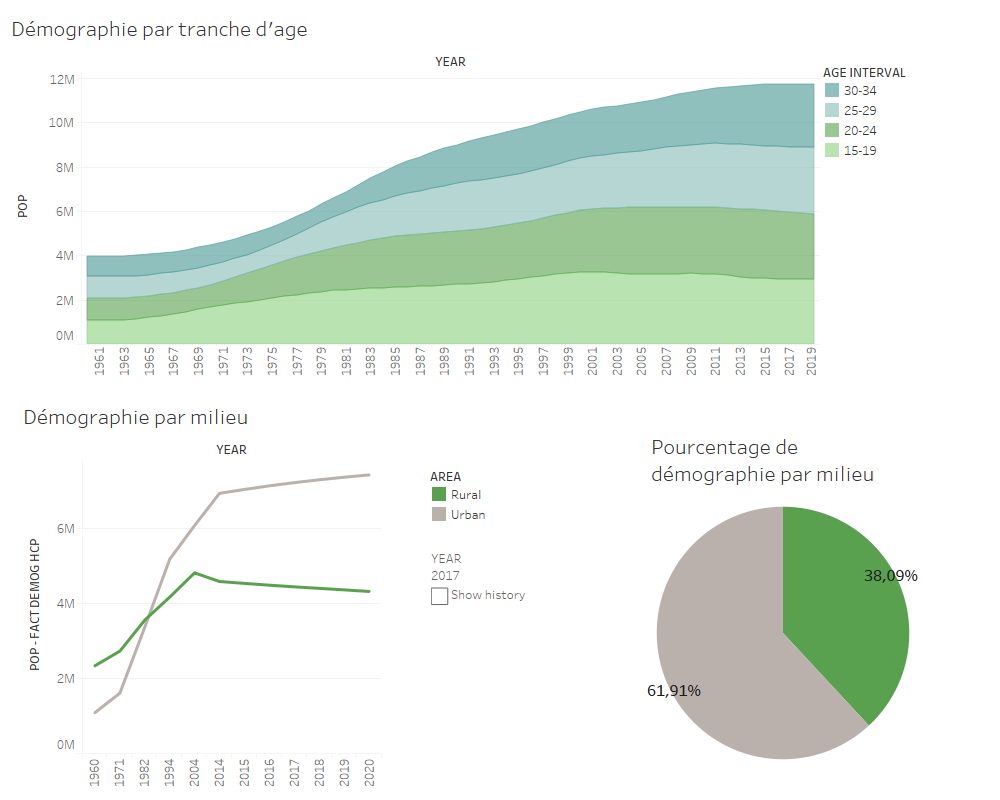

Layout of this report page (visuals, bound fields, positions):
{"tool":"tableau","page":{"name":"DEMOG2","canvas":[1000,800],"ordinal":2},"visuals":[{"type":"worksheet","title":"DEMOG_DWB_2","mark":"Area","rows":["POP"],"cols":["YEAR"],"box":[7,8,813,369]},{"type":"legend","title":"DEMOG_DWB_2","param":"[msolap.1ifi4mp15fzyf614xw0c20uex6ge].[DIM AGE INTERVAL LVL 1].[AGE INTERVAL].[n","box":[822,62,159,133]},{"type":"worksheet","title":"DEMOG_HCP_1","mark":"Line","rows":["POP - FACT DEMOG HCP"],"cols":["YEAR"],"box":[19,396,362,397]},{"type":"worksheet","title":"DEMOG_HCP_2","mark":"Pie","box":[647,426,305,365]},{"type":"legend","title":"DEMOG_HCP_1","param":"[msolap.1ifi4mp15fzyf614xw0c20uex6ge].[DIM AREA].[AREA].[none:AREA:nk]","box":[429,466,140,58]},{"type":"currpage","title":"DEMOG_HCP_2","box":[431,549,160,102]}]}

Visuals, with their boxes in screenshot pixels (x1, y1, x2, y2), scaled from the page's 1000x800 canvas onto the 1000x800 screenshot:
"DEMOG_DWB_2" worksheet (Area marks): [7,8,820,377]
"DEMOG_DWB_2" legend: [822,62,981,195]
"DEMOG_HCP_1" worksheet (Line marks): [19,396,381,793]
"DEMOG_HCP_2" worksheet (Pie marks): [647,426,952,791]
"DEMOG_HCP_1" legend: [429,466,569,524]
"DEMOG_HCP_2" currpage: [431,549,591,651]
